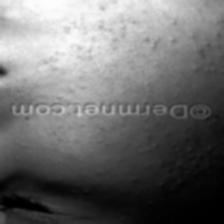Non-Cancerous Skin Condition: (83, 120, 224, 190), (134, 0, 224, 83), (18, 18, 88, 70)
